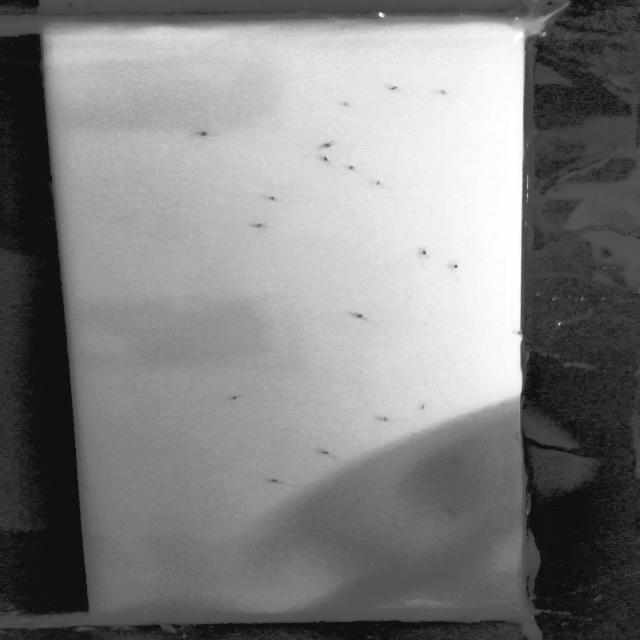shrimp: (313, 446, 346, 462), (316, 135, 346, 151), (354, 310, 379, 325), (386, 79, 408, 93), (266, 477, 294, 487), (442, 508, 462, 521), (340, 96, 358, 109), (194, 128, 223, 136), (311, 152, 334, 162), (448, 262, 465, 274), (392, 561, 409, 573), (264, 193, 284, 203), (232, 390, 251, 400), (248, 219, 265, 230), (434, 86, 446, 101), (420, 248, 435, 260), (344, 161, 361, 171), (447, 458, 465, 466), (373, 177, 387, 186), (416, 403, 427, 413), (379, 417, 397, 423)
